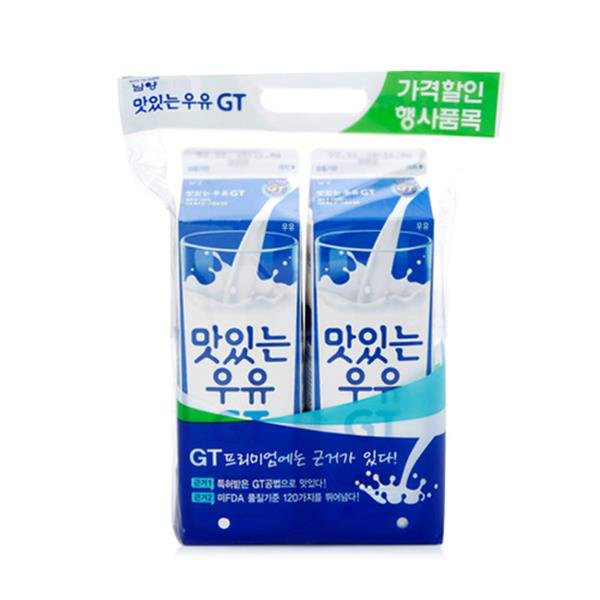milk: (178, 148, 441, 546)
